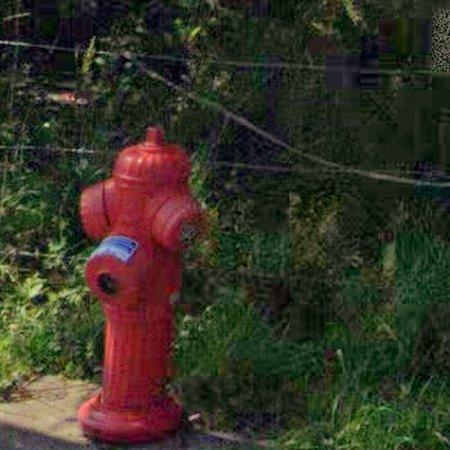a fire hydrant: (78, 127, 204, 444)
